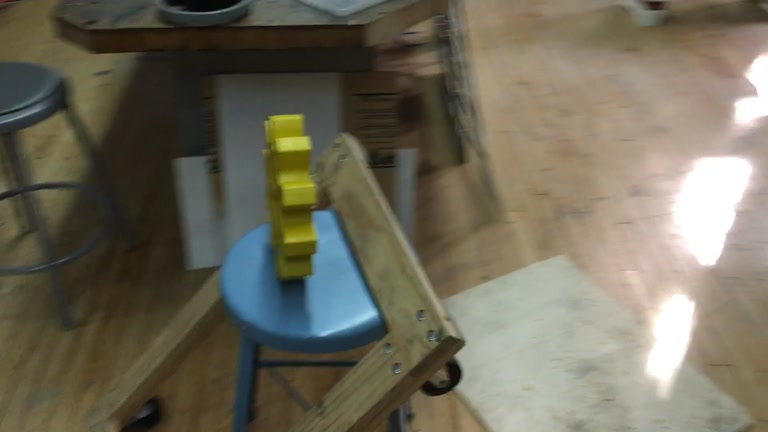gear: (260, 112, 317, 281)
